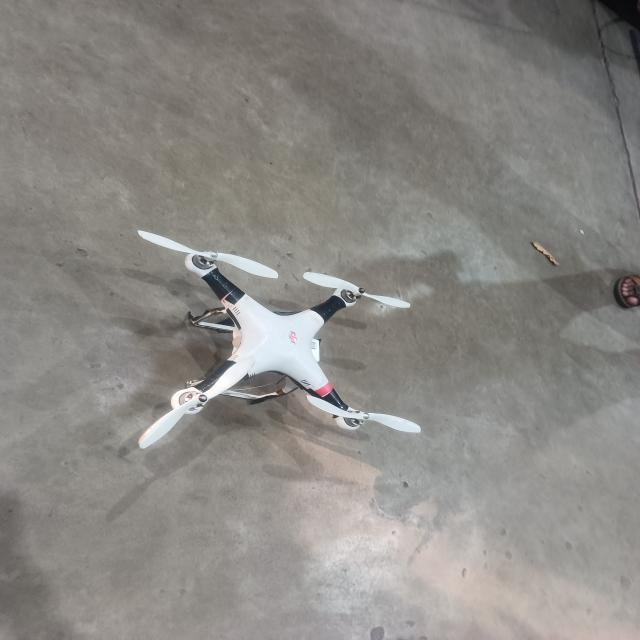drone: (63, 217, 475, 474)
